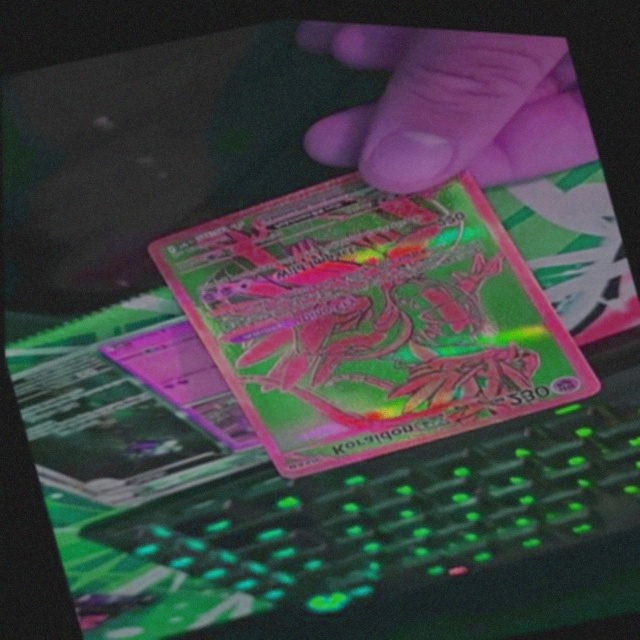card: (143, 158, 599, 474), (7, 345, 235, 495), (88, 311, 260, 451)
